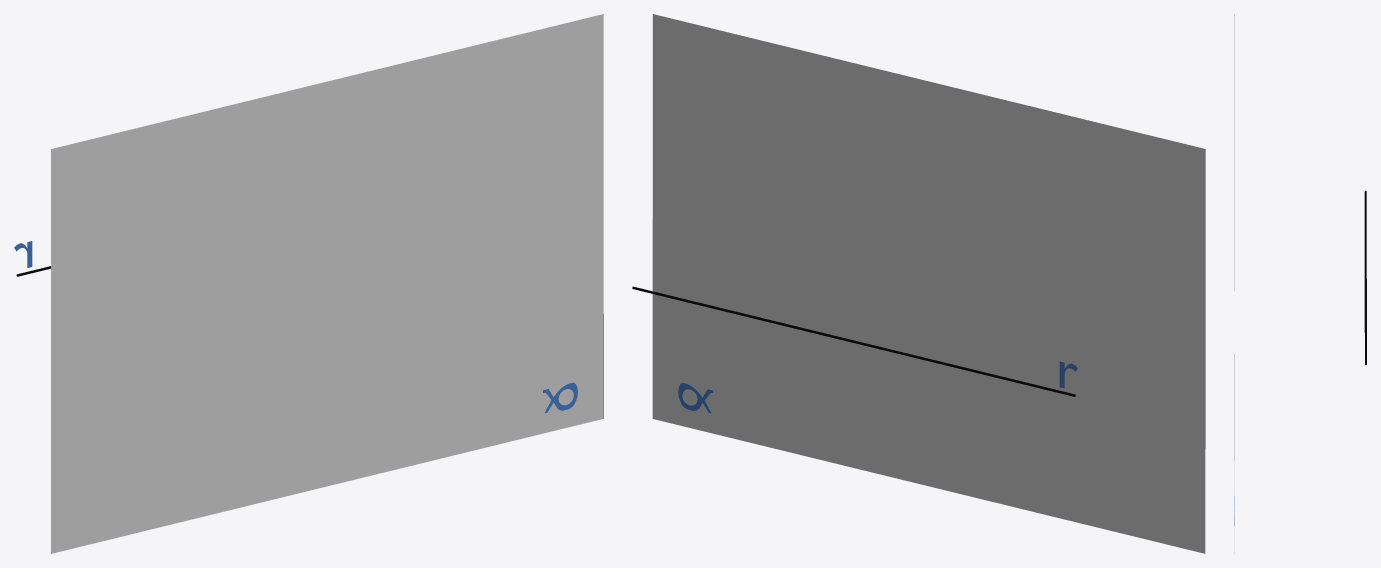
Rendered from ob2.1_reta_paralela_ao_plano.wrl.glb.
3 views of the same model, side by side, from view 1: azimuth 30°, elevation 25°; view 2: azimuth 150°, elevation 25°; view 3: azimuth 270°, elevation 25° (orthographic). The views are drawn at different scales.
Parts seen in each view (by area): view 1: plano_ALFA_Box; view 2: plano_ALFA_Box, reta_r0_Cylinder; view 3: reta_r0_Cylinder, plano_ALFA_Box.
Boxes of the visible parts, x1,y1,x2,y2 form: plano_ALFA_Box: (51, 14, 603, 553); plano_ALFA_Box: (652, 14, 1205, 553); reta_r0_Cylinder: (632, 286, 1075, 396); reta_r0_Cylinder: (1364, 190, 1366, 365); plano_ALFA_Box: (1234, 14, 1234, 553).
Bounding box in the file's own units: 10 × 7 × 2.6.
